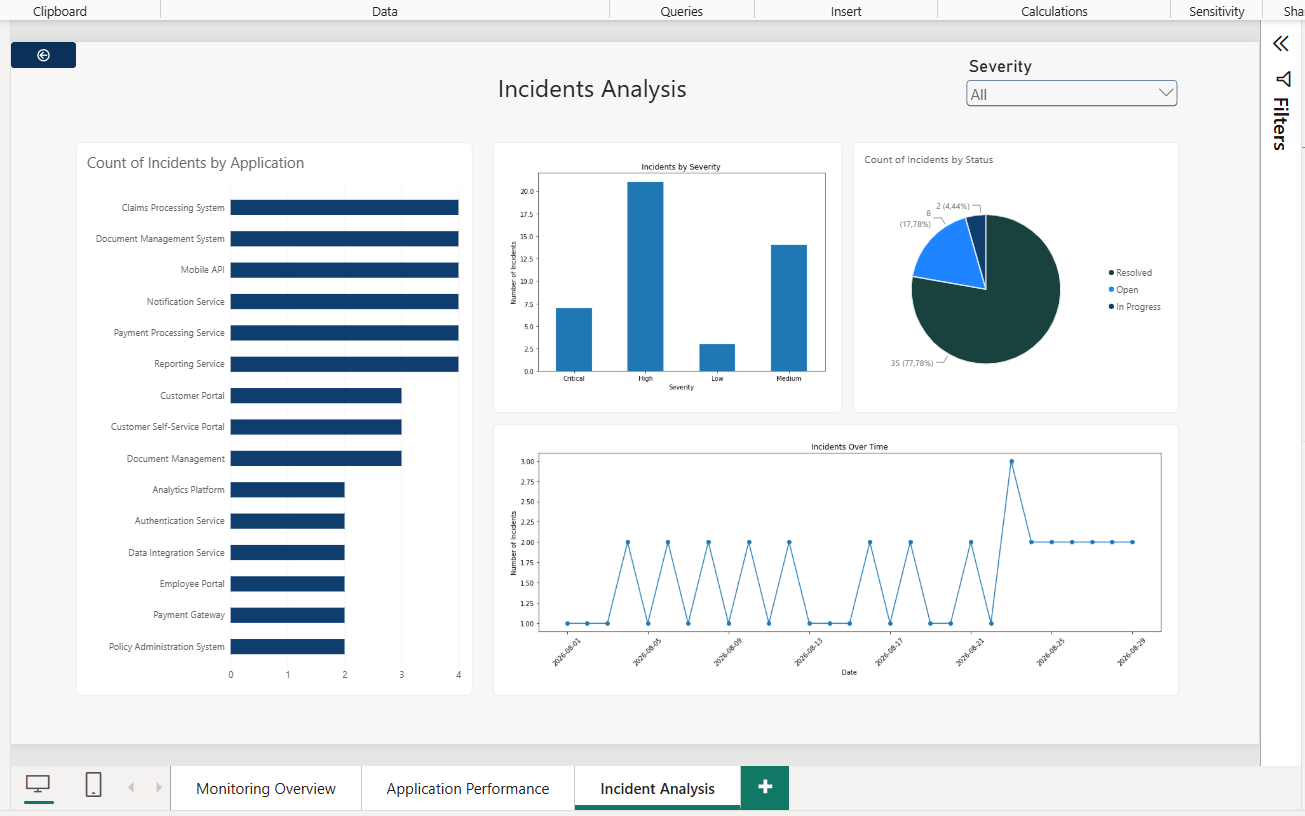

What the dashboard file says about the page in this screenshot:
{"tool":"powerbi","page":{"name":"Incident Analysis","canvas":[1920,1080],"ordinal":2},"visuals":[{"type":"pythonVisual","fields":{"Values":["Incidents.Severity","Incidents.IncidentId"]},"box":[742,153.8,536.3,417.1],"z":0},{"type":"pieChart","fields":{"Category":["Incidents.Status"],"Y":["CountNonNull(Incidents.IncidentId)"]},"box":[1295.6,153.8,499.8,417.1],"z":1000},{"type":"clusteredBarChart","fields":{"Category":["Applications.ApplicationName"],"Y":["CountNonNull(Incidents.IncidentId)"]},"box":[100,153.8,609.4,851.6],"z":2000},{"type":"pythonVisual","fields":{"Values":["Incidents.CreatedDate","Incidents.IncidentId"]},"box":[742,588.2,1053.4,417.1],"z":3000},{"type":"textbox","box":[594,44.2,599.8,109.6],"z":4000},{"type":"actionButton","box":[0,0,100,40],"z":5000},{"type":"slicer","fields":{"Values":["Incidents.Severity"]},"box":[1465.6,20.5,333.6,110.5],"z":6000}]}

Visuals, with their boxes on the page's 1920x1080 design canvas (x1, y1, x2, y2). These are canvas units, not pixel positions in the 1305x816 screenshot, which may show the page scaled, cropped or inside an application window:
pythonVisual - Incidents.Severity x Incidents.IncidentId: bbox=(742, 154, 1278, 571)
pieChart - Incidents.Status x CountNonNull(Incidents.IncidentId): bbox=(1296, 154, 1795, 571)
clusteredBarChart - Applications.ApplicationName x CountNonNull(Incidents.IncidentId): bbox=(100, 154, 709, 1005)
pythonVisual - Incidents.CreatedDate x Incidents.IncidentId: bbox=(742, 588, 1795, 1005)
textbox: bbox=(594, 44, 1194, 154)
actionButton: bbox=(0, 0, 100, 40)
slicer - Incidents.Severity: bbox=(1466, 20, 1799, 131)
